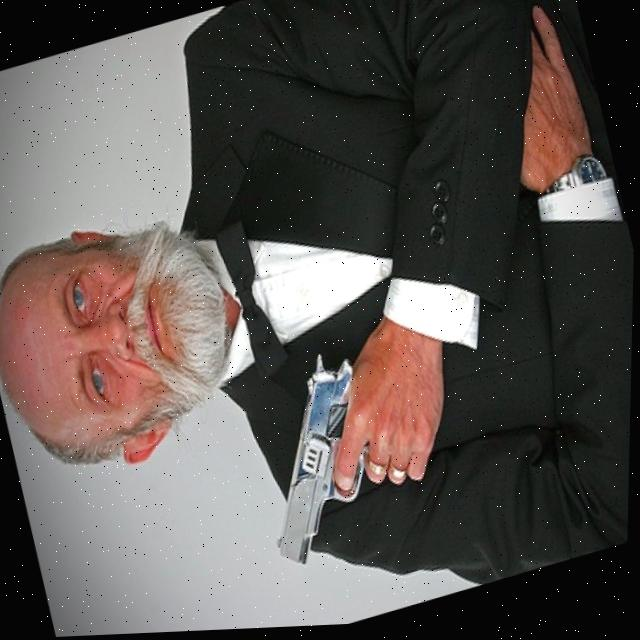pistol: (238, 354, 400, 573)
